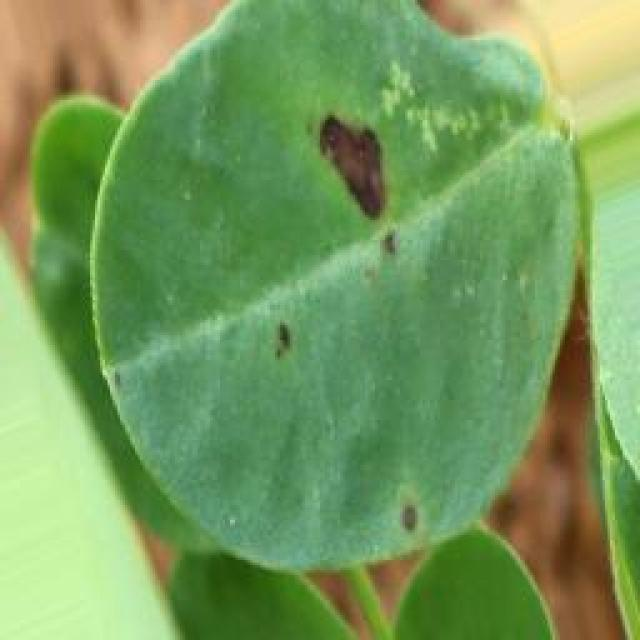Yellowish: (130, 47, 565, 567)
